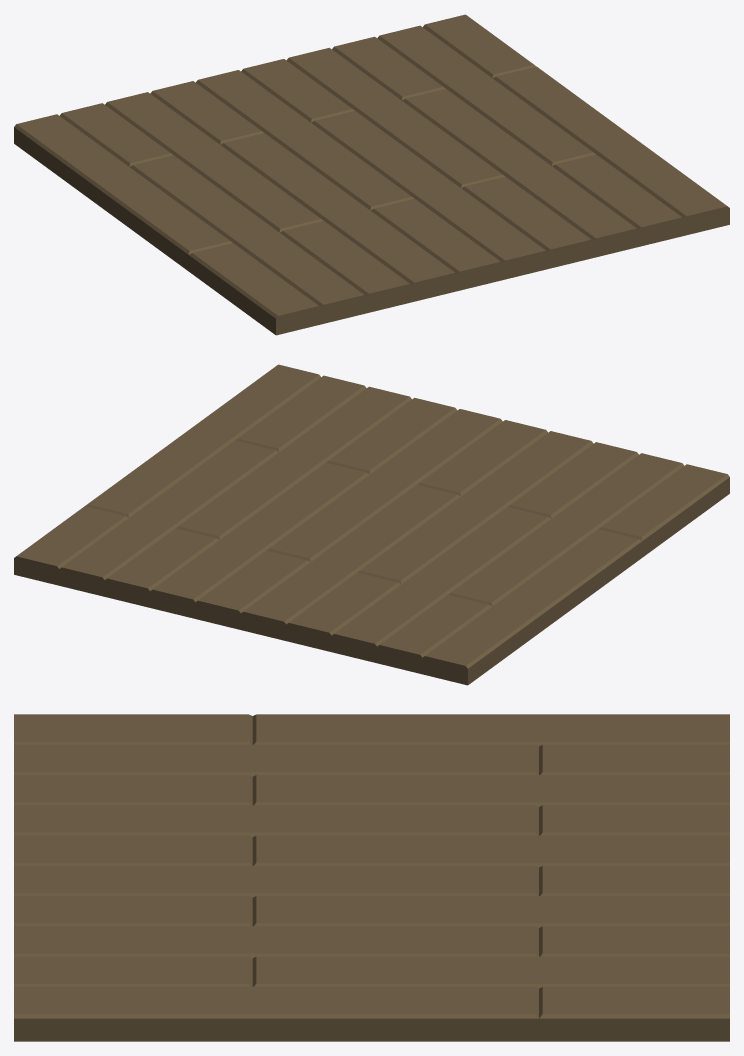
Rendered from greek_floor_wood.fbx.
3 views of the same model, one above another, from view 1: azimuth 30°, elevation 25°; view 2: azimuth 150°, elevation 25°; view 3: azimuth 270°, elevation 25° (orthographic). The views are drawn at different scales.
Parts seen in each view (by area): view 1: Plane.003; view 2: Plane.003; view 3: Plane.003.
Part boxes in pixels (x1,y1,x2,y2): Plane.003: (14,14,729,335); Plane.003: (14,364,729,685); Plane.003: (14,714,729,1041).
Size of the model in its own units: 300 by 12 by 300.
